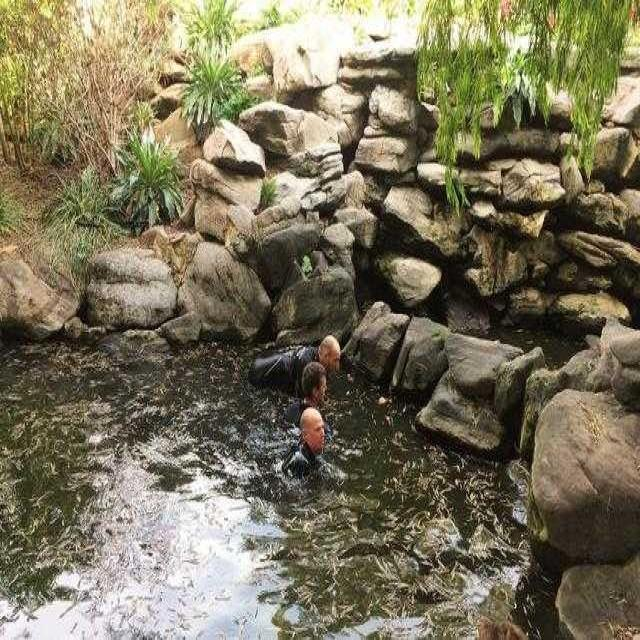Ponds: (2, 231, 640, 640)
